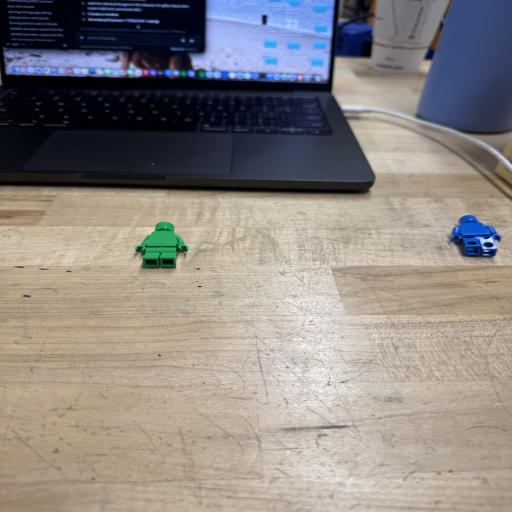blue-minifig: (451, 215, 501, 257)
green-minifig: (136, 222, 188, 267)
